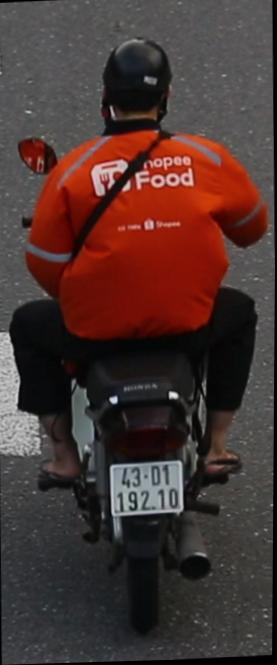LP: (108, 455, 187, 523)
helmet: (96, 32, 178, 143)
